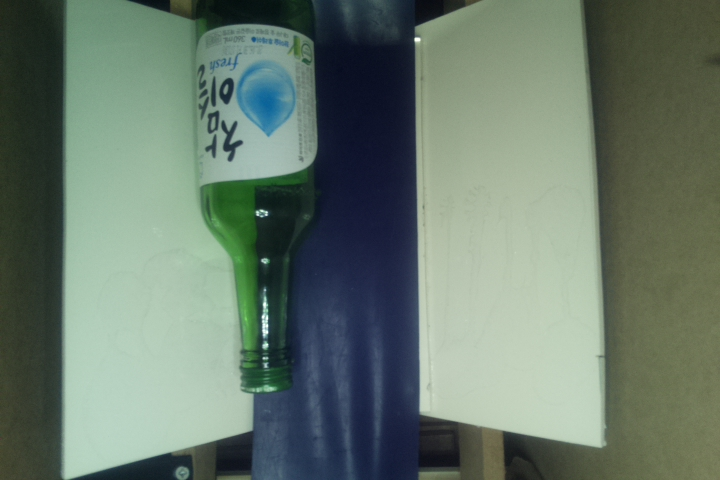soju: (185, 1, 323, 393)
